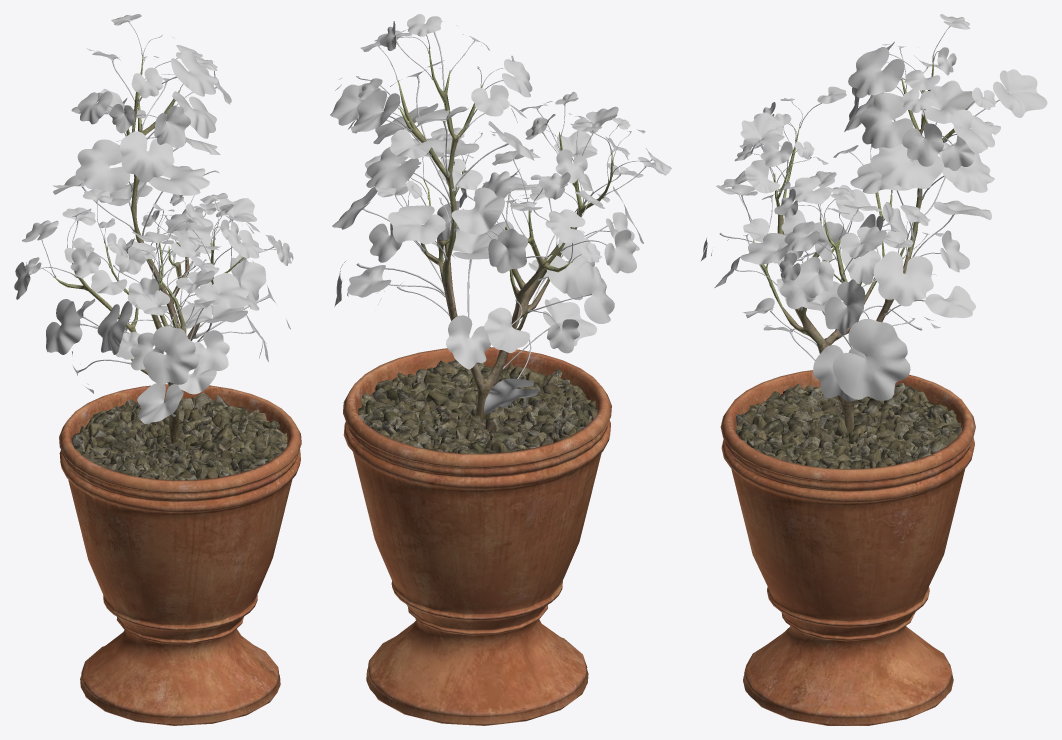
Rendered from potted_plant_01.glb.
3 renders of one model, left to right at view 1: azimuth 30°, elevation 25°; view 2: azimuth 150°, elevation 25°; view 3: azimuth 270°, elevation 25°, orthographic. The views are drawn at different scales.
Size of the model in its own units: 0.5874 by 1.34 by 0.6336.
Materials: 2 (1 with a texture image).
